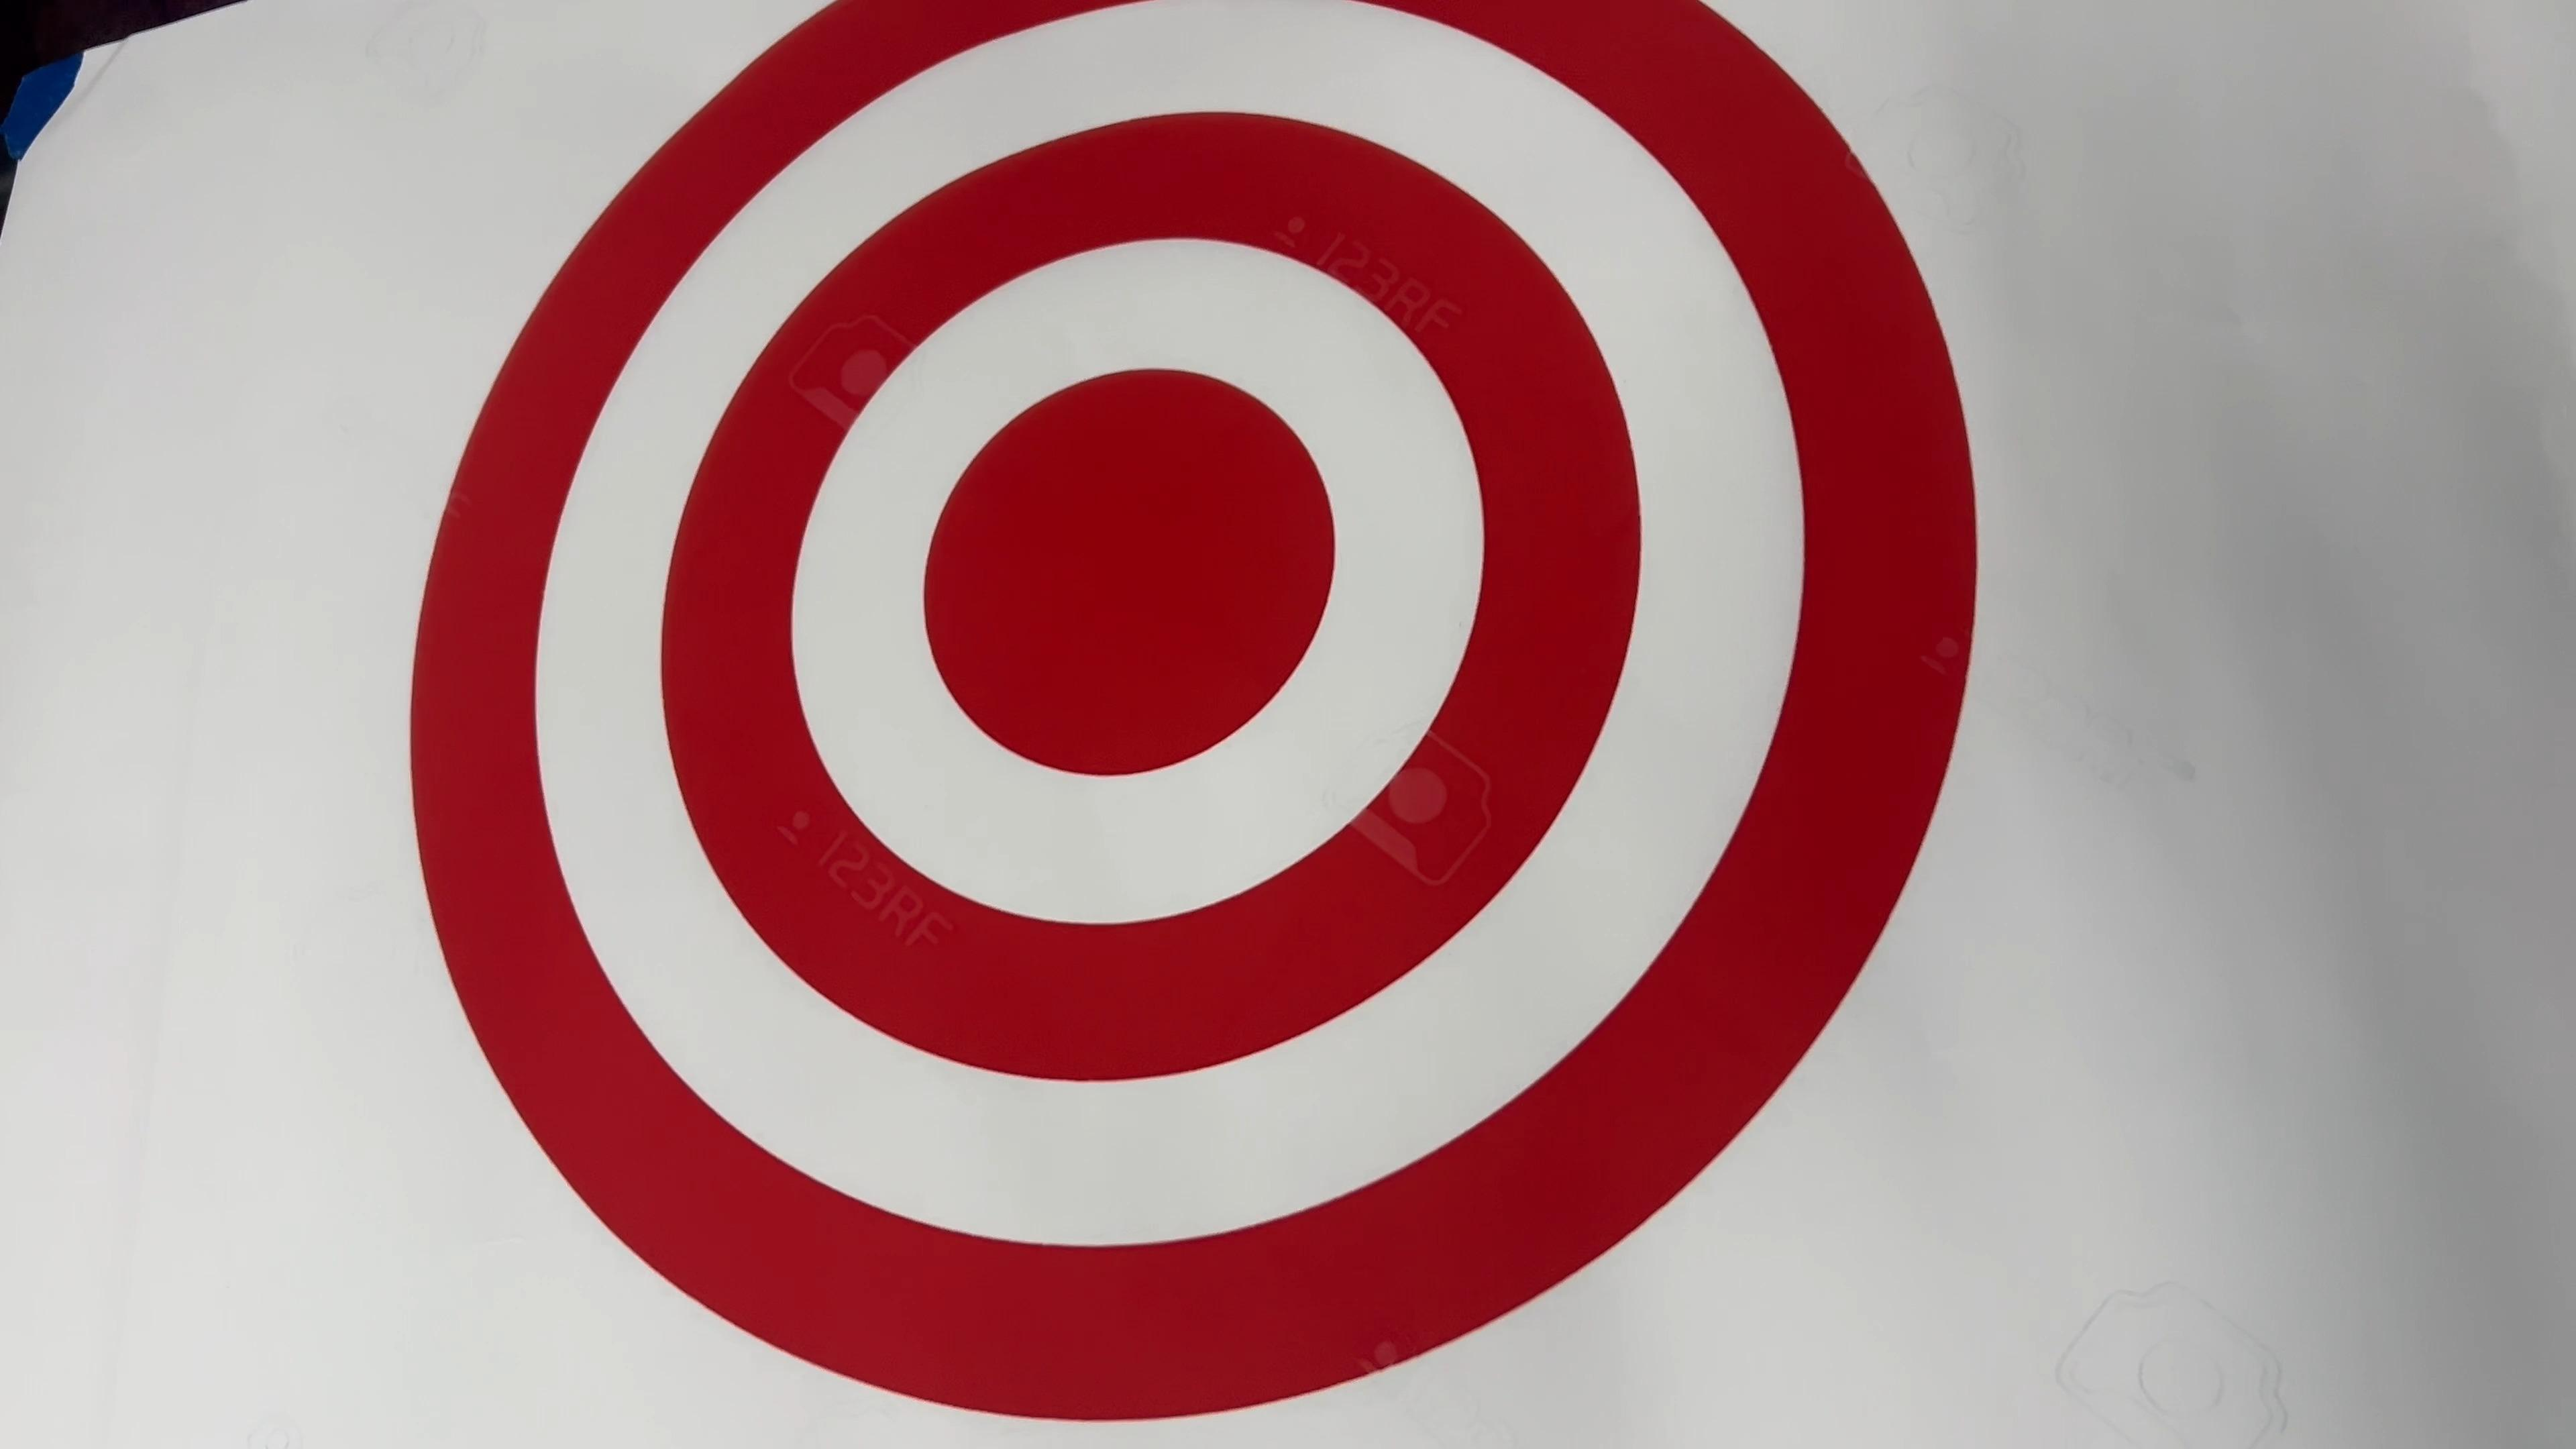target_red: (373, 11, 2088, 1442)
